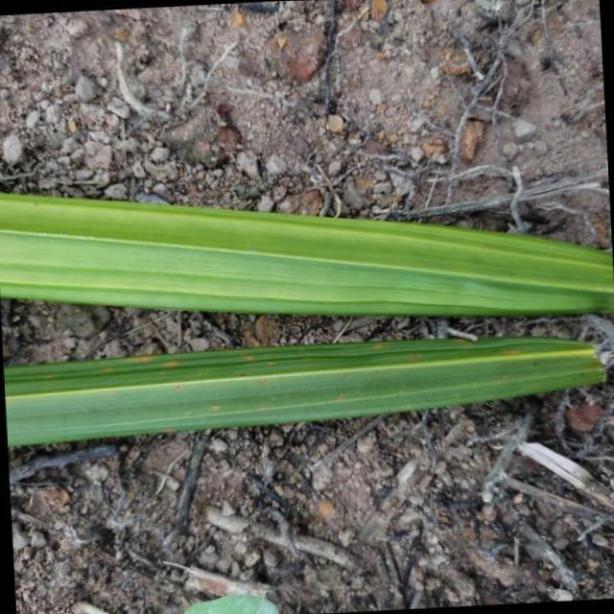nitrogen: (0, 186, 614, 318), (0, 337, 614, 450)
